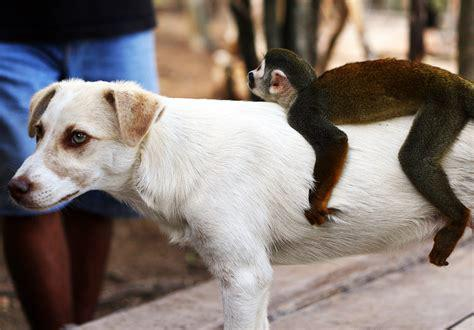dog: (8, 79, 474, 330)
monkey: (247, 49, 474, 266)
